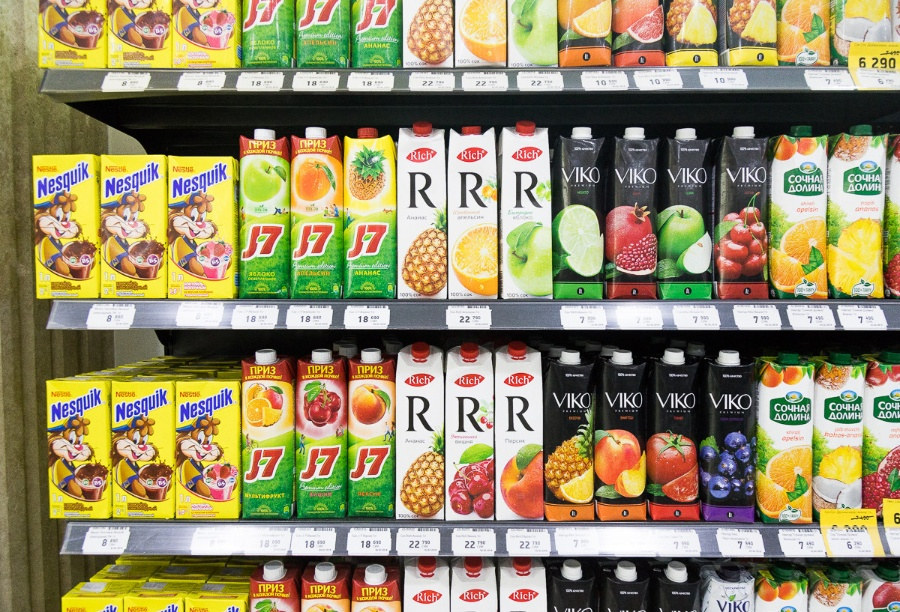juice: (824, 124, 895, 303), (768, 127, 838, 306), (290, 349, 358, 532), (439, 344, 506, 525), (712, 125, 779, 305), (496, 120, 559, 310), (233, 127, 299, 306), (643, 349, 709, 527), (238, 350, 303, 524), (340, 120, 401, 305), (809, 349, 871, 531), (490, 344, 553, 523), (755, 349, 817, 530), (392, 344, 453, 527), (442, 122, 502, 307), (657, 126, 719, 305), (542, 348, 604, 525), (287, 124, 348, 301), (604, 127, 664, 305), (700, 352, 760, 530), (594, 348, 653, 525), (555, 126, 612, 308), (345, 347, 403, 523), (397, 123, 452, 304)
